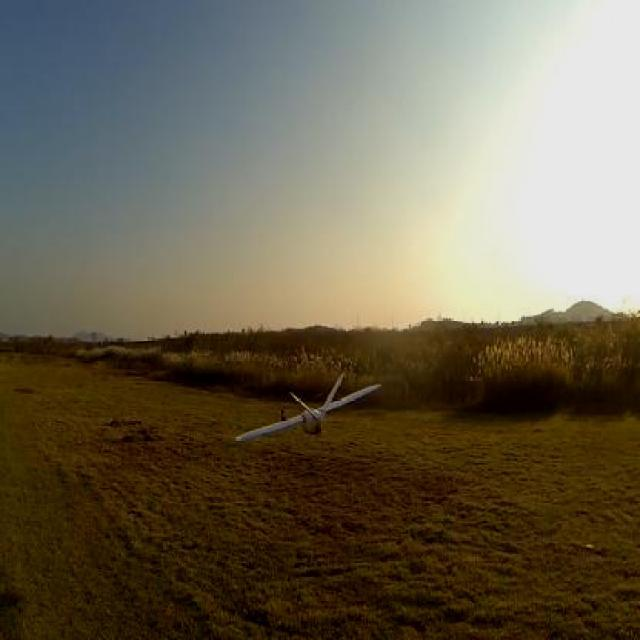iha: (230, 379, 390, 423)
